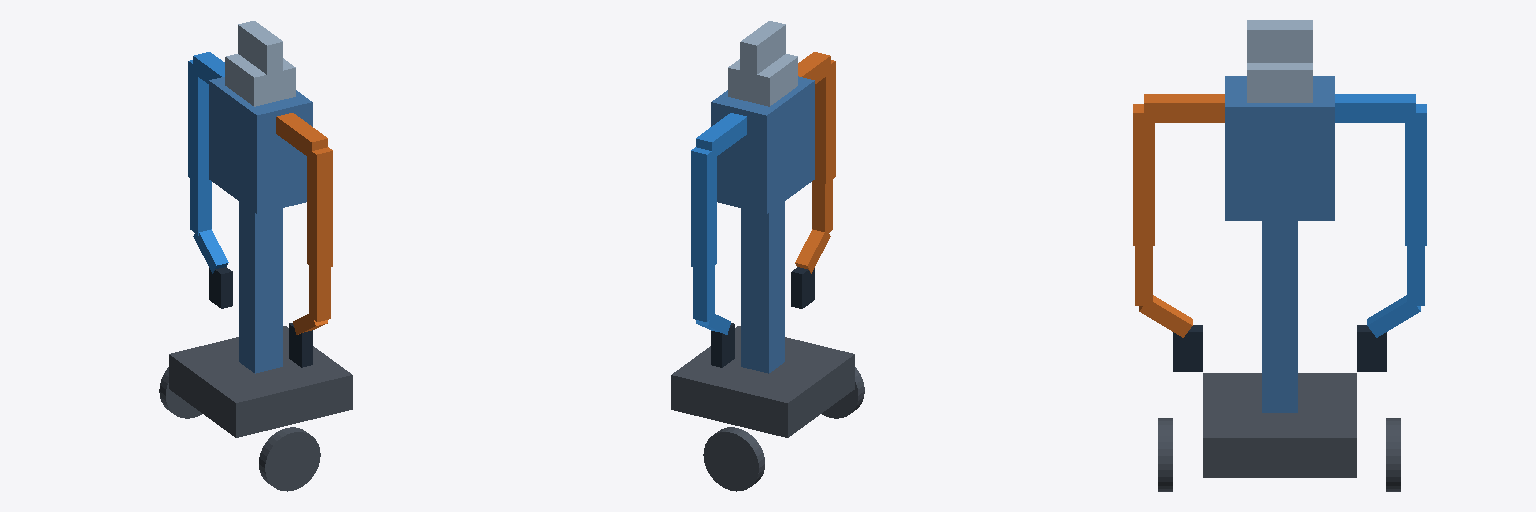
URDF robot description (dummy_bot):
<?xml version="1.0" encoding="UTF-8"?>
<robot name="dummy_bot">
  <!--
  SOFTWARE-ONLY PLACEHOLDER MODEL - NOT FOR REAL MOTOR CONTROL.

  Topology and case-sensitive names follow the user's robot structure drawing.
  The unlabelled left-arm joint between Left_Arm_Link3 and Left_Arm_Link4
  is inferred to be Left_Arm_Joint3, matching the right arm.

  Root: base_link. 20 links, 19 revolute joints: 15 body joints, 2 wrists and 2 wheels.
  Each arm: shoulder + Arm_Joint1..4 = 5 revolute joints, then a revolute SDK wrist.
  No finger joints, world link, transmissions, controllers, or
  ros2_control/hardware plugins are added.

  Except wheel joint origins/axes copied from Kinematics_only, dimensions,
  joint origins, axes, limits, masses, centers of mass and inertias are
  invented placeholders. Replace them with calibrated
  SolidWorks/measurement data before using this model on hardware.
  Computed gravity, inertia, trajectories and collision results are NOT
  predictions of the real robot.

  SI units: m, kg, s, rad, N.m, kg.m^2.
  Nominal axes: x forward, y left, z up. At q=0 body/hand link frames have aligned
  axes (wheel frames follow the kinematics export); the simple box shapes approximate the drawing's front-view layout.
  Inertial origins locate each box's COM; inertias are about that COM.

  base_link is a fixed reference for FK/TF tests and deliberately has no
  inertial element. All 19 non-root links have positive mass/inertia.
  For floating-base dynamics or physics simulation, separately configure
  a proper base inertia, support/contact model, and controllers.

  A joint origin is expressed in its PARENT link frame and specifies the
  child frame at q=0. Joint axes are expressed in that zero-pose joint frame.
  Visual, collision, and inertial origins are expressed in their OWN link.
-->
  <material name="body_blue">
    <color rgba="0.32 0.52 0.72 1" />
  </material>
  <material name="left_arm_blue">
    <color rgba="0.24 0.57 0.86 1" />
  </material>
  <material name="right_arm_orange">
    <color rgba="0.86 0.48 0.20 1" />
  </material>
  <material name="base_gray">
    <color rgba="0.34 0.37 0.41 1" />
  </material>
  <material name="head_light">
    <color rgba="0.65 0.73 0.81 1" />
  </material>
  <material name="hand_dark">
    <color rgba="0.18 0.23 0.29 1" />
  </material>
  <!-- Fixed root reference. Root geometry only; no root inertia. -->
  <link name="base_link">
    <visual>
      <origin xyz="0 0 0.06" rpy="0 0 0" />
      <geometry>
        <box size="0.42 0.42 0.12" />
      </geometry>
      <material name="base_gray" />
    </visual>
    <collision>
      <origin xyz="0 0 0.06" rpy="0 0 0" />
      <geometry>
        <box size="0.42 0.42 0.12" />
      </geometry>
    </collision>
  </link>
  <!-- Left wheel: joint frame from Kinematics_only; cylinder, inertia and limits are placeholders.
       Description only: no motor mapping or control interfaces. -->
  <joint name="Left_Wheel_Joint" type="revolute">
    <parent link="base_link" />
    <child link="Left_Wheel_Link" />
    <origin xyz="-0.075 0.30942 -0.063709" rpy="1.5708 0 -3.1416" />
    <axis xyz="0 0 1" />
    <limit lower="-3.14159265359" upper="3.14159265359" effort="1" velocity="1" />
  </joint>
  <link name="Left_Wheel_Link">
    <inertial>
      <origin xyz="0 0 0" rpy="0 0 0" />
      <mass value="0.5" />
      <inertia ixx="0.00131666666667" ixy="0" ixz="0" iyy="0.00131666666667" iyz="0" izz="0.0025" />
    </inertial>
    <visual>
      <origin xyz="0 0 0" rpy="0 0 0" />
      <geometry><cylinder radius="0.1" length="0.04" /></geometry>
      <material name="base_gray" />
    </visual>
    <collision>
      <origin xyz="0 0 0" rpy="0 0 0" />
      <geometry><cylinder radius="0.1" length="0.04" /></geometry>
    </collision>
  </link>
  <!-- Right wheel: joint frame from Kinematics_only; cylinder, inertia and limits are placeholders.
       Description only: no motor mapping or control interfaces. -->
  <joint name="Right_Wheel_Joint" type="revolute">
    <parent link="base_link" />
    <child link="Right_Wheel_Link" />
    <origin xyz="-0.075 -0.31058 -0.063709" rpy="1.5708 0 -3.1416" />
    <axis xyz="0 0 1" />
    <limit lower="-3.14159265359" upper="3.14159265359" effort="1" velocity="1" />
  </joint>
  <link name="Right_Wheel_Link">
    <inertial>
      <origin xyz="0 0 0" rpy="0 0 0" />
      <mass value="0.5" />
      <inertia ixx="0.00131666666667" ixy="0" ixz="0" iyy="0.00131666666667" iyz="0" izz="0.0025" />
    </inertial>
    <visual>
      <origin xyz="0 0 0" rpy="0 0 0" />
      <geometry><cylinder radius="0.1" length="0.04" /></geometry>
      <material name="base_gray" />
    </visual>
    <collision>
      <origin xyz="0 0 0" rpy="0 0 0" />
      <geometry><cylinder radius="0.1" length="0.04" /></geometry>
    </collision>
  </link>
  <!-- base_link -> Feet_Joint -> Lower_Leg_Link -->
  <joint name="Feet_Joint" type="revolute">
    <parent link="base_link" />
    <child link="Lower_Leg_Link" />
    <origin xyz="0 0 0.12" rpy="0 0 0" />
    <axis xyz="0 1 0" />
    <limit lower="-1.57079632679" upper="1.57079632679" effort="20" velocity="1" />
  </joint>
  <link name="Lower_Leg_Link">
    <inertial>
      <origin xyz="0 0 0.15" rpy="0 0 0" />
      <mass value="2" />
      <inertia ixx="0.0166666666667" ixy="0" ixz="0" iyy="0.0166666666667" iyz="0" izz="0.00333333333333" />
    </inertial>
    <visual>
      <origin xyz="0 0 0.15" rpy="0 0 0" />
      <geometry>
        <box size="0.1 0.1 0.3" />
      </geometry>
      <material name="body_blue" />
    </visual>
    <collision>
      <origin xyz="0 0 0.15" rpy="0 0 0" />
      <geometry>
        <box size="0.1 0.1 0.3" />
      </geometry>
    </collision>
  </link>
  <!-- Lower_Leg_Link -> Knee_Joint -> Upper_Leg_Link -->
  <joint name="Knee_Joint" type="revolute">
    <parent link="Lower_Leg_Link" />
    <child link="Upper_Leg_Link" />
    <origin xyz="0 0 0.3" rpy="0 0 0" />
    <axis xyz="0 1 0" />
    <limit lower="-1.57079632679" upper="1.57079632679" effort="20" velocity="1" />
  </joint>
  <link name="Upper_Leg_Link">
    <inertial>
      <origin xyz="0 0 0.15" rpy="0 0 0" />
      <mass value="2" />
      <inertia ixx="0.0166666666667" ixy="0" ixz="0" iyy="0.0166666666667" iyz="0" izz="0.00333333333333" />
    </inertial>
    <visual>
      <origin xyz="0 0 0.15" rpy="0 0 0" />
      <geometry>
        <box size="0.1 0.1 0.3" />
      </geometry>
      <material name="body_blue" />
    </visual>
    <collision>
      <origin xyz="0 0 0.15" rpy="0 0 0" />
      <geometry>
        <box size="0.1 0.1 0.3" />
      </geometry>
    </collision>
  </link>
  <!-- Upper_Leg_Link -> Hip_Joint -> Body_Link -->
  <joint name="Hip_Joint" type="revolute">
    <parent link="Upper_Leg_Link" />
    <child link="Body_Link" />
    <origin xyz="0 0 0.3" rpy="0 0 0" />
    <axis xyz="0 1 0" />
    <limit lower="-1.57079632679" upper="1.57079632679" effort="20" velocity="1" />
  </joint>
  <link name="Body_Link">
    <inertial>
      <origin xyz="0 0 0.17" rpy="0 0 0" />
      <mass value="5" />
      <inertia ixx="0.0856666666667" ixy="0" ixz="0" iyy="0.0648333333333" iyz="0" izz="0.0541666666667" />
    </inertial>
    <visual>
      <origin xyz="0 0 0.17" rpy="0 0 0" />
      <geometry>
        <box size="0.2 0.3 0.34" />
      </geometry>
      <material name="body_blue" />
    </visual>
    <collision>
      <origin xyz="0 0 0.17" rpy="0 0 0" />
      <geometry>
        <box size="0.2 0.3 0.34" />
      </geometry>
    </collision>
  </link>
  <!-- Body_Link -> Neck_Joint -> Head_Link -->
  <joint name="Neck_Joint" type="revolute">
    <parent link="Body_Link" />
    <child link="Head_Link" />
    <origin xyz="0 0 0.34" rpy="0 0 0" />
    <axis xyz="0 0 1" />
    <limit lower="-1.57079632679" upper="1.57079632679" effort="20" velocity="1" />
  </joint>
  <link name="Head_Link">
    <inertial>
      <origin xyz="0 0 0.05" rpy="0 0 0" />
      <mass value="0.6" />
      <inertia ixx="0.00212" ixy="0" ixz="0" iyy="0.001625" iyz="0" izz="0.002745" />
    </inertial>
    <visual>
      <origin xyz="0 0 0.05" rpy="0 0 0" />
      <geometry>
        <box size="0.15 0.18 0.1" />
      </geometry>
      <material name="head_light" />
    </visual>
    <collision>
      <origin xyz="0 0 0.05" rpy="0 0 0" />
      <geometry>
        <box size="0.15 0.18 0.1" />
      </geometry>
    </collision>
  </link>
  <!-- Head_Link -> Face_Joint -> Face_Link -->
  <joint name="Face_Joint" type="revolute">
    <parent link="Head_Link" />
    <child link="Face_Link" />
    <origin xyz="0 0 0.1" rpy="0 0 0" />
    <axis xyz="0 1 0" />
    <limit lower="-1.57079632679" upper="1.57079632679" effort="20" velocity="1" />
  </joint>
  <link name="Face_Link">
    <inertial>
      <origin xyz="0 0 0.05" rpy="0 0 0" />
      <mass value="0.2" />
      <inertia ixx="0.000706666666667" ixy="0" ixz="0" iyy="0.000226666666667" iyz="0" izz="0.0006" />
    </inertial>
    <visual>
      <origin xyz="0 0 0.05" rpy="0 0 0" />
      <geometry>
        <box size="0.06 0.18 0.1" />
      </geometry>
      <material name="head_light" />
    </visual>
    <collision>
      <origin xyz="0 0 0.05" rpy="0 0 0" />
      <geometry>
        <box size="0.06 0.18 0.1" />
      </geometry>
    </collision>
  </link>
  <!-- LEFT ARM: five revolute joints, followed by a fixed hand attachment. -->
  <!-- Body_Link -> Left_Shoulder_Joint -> Left_Arm_Link1 -->
  <joint name="Left_Shoulder_Joint" type="revolute">
    <parent link="Body_Link" />
    <child link="Left_Arm_Link1" />
    <origin xyz="0 0.15 0.29" rpy="0 0 0" />
    <axis xyz="1 0 0" />
    <limit lower="-1.57079632679" upper="1.57079632679" effort="20" velocity="1" />
  </joint>
  <link name="Left_Arm_Link1">
    <inertial>
      <origin xyz="0 0.11 0" rpy="0 0 0" />
      <mass value="0.5" />
      <inertia ixx="0.00216666666667" ixy="0" ixz="0" iyy="0.0003" iyz="0" izz="0.00216666666667" />
    </inertial>
    <visual>
      <origin xyz="0 0.11 0" rpy="0 0 0" />
      <geometry>
        <box size="0.06 0.22 0.06" />
      </geometry>
      <material name="left_arm_blue" />
    </visual>
    <collision>
      <origin xyz="0 0.11 0" rpy="0 0 0" />
      <geometry>
        <box size="0.06 0.22 0.06" />
      </geometry>
    </collision>
  </link>
  <!-- Left_Arm_Link1 -> Left_Arm_Joint1 -> Left_Arm_Link2 -->
  <joint name="Left_Arm_Joint1" type="revolute">
    <parent link="Left_Arm_Link1" />
    <child link="Left_Arm_Link2" />
    <origin xyz="0 0.22 0" rpy="0 0 0" />
    <axis xyz="0 1 0" />
    <limit lower="-1.57079632679" upper="1.57079632679" effort="20" velocity="1" />
  </joint>
  <link name="Left_Arm_Link2">
    <inertial>
      <origin xyz="0 0 -0.1" rpy="0 0 0" />
      <mass value="0.8" />
      <inertia ixx="0.00290666666667" ixy="0" ixz="0" iyy="0.00290666666667" iyz="0" izz="0.00048" />
    </inertial>
    <visual>
      <origin xyz="0 0 -0.1" rpy="0 0 0" />
      <geometry>
        <box size="0.06 0.06 0.2" />
      </geometry>
      <material name="left_arm_blue" />
    </visual>
    <collision>
      <origin xyz="0 0 -0.1" rpy="0 0 0" />
      <geometry>
        <box size="0.06 0.06 0.2" />
      </geometry>
    </collision>
  </link>
  <!-- Left_Arm_Link2 -> Left_Arm_Joint2 -> Left_Arm_Link3 -->
  <joint name="Left_Arm_Joint2" type="revolute">
    <parent link="Left_Arm_Link2" />
    <child link="Left_Arm_Link3" />
    <origin xyz="0 0 -0.2" rpy="0 0 0" />
    <axis xyz="0 0 1" />
    <limit lower="-1.57079632679" upper="1.57079632679" effort="20" velocity="1" />
  </joint>
  <link name="Left_Arm_Link3">
    <inertial>
      <origin xyz="0 0 -0.1" rpy="0 0 0" />
      <mass value="0.7" />
      <inertia ixx="0.00254333333333" ixy="0" ixz="0" iyy="0.00254333333333" iyz="0" izz="0.00042" />
    </inertial>
    <visual>
      <origin xyz="0 0 -0.1" rpy="0 0 0" />
      <geometry>
        <box size="0.06 0.06 0.2" />
      </geometry>
      <material name="left_arm_blue" />
    </visual>
    <collision>
      <origin xyz="0 0 -0.1" rpy="0 0 0" />
      <geometry>
        <box size="0.06 0.06 0.2" />
      </geometry>
    </collision>
  </link>
  <!-- Left_Arm_Joint3: the unlabeled circle in the provided drawing. -->
  <!-- Left_Arm_Link3 -> Left_Arm_Joint3 -> Left_Arm_Link4 -->
  <joint name="Left_Arm_Joint3" type="revolute">
    <parent link="Left_Arm_Link3" />
    <child link="Left_Arm_Link4" />
    <origin xyz="0 0 -0.2" rpy="0 0 0" />
    <axis xyz="0 1 0" />
    <limit lower="-1.57079632679" upper="1.57079632679" effort="20" velocity="1" />
  </joint>
  <link name="Left_Arm_Link4">
    <inertial>
      <origin xyz="0 0 -0.09" rpy="0 0 0" />
      <mass value="0.5" />
      <inertia ixx="0.00145416666667" ixy="0" ixz="0" iyy="0.00145416666667" iyz="0" izz="0.000208333333333" />
    </inertial>
    <visual>
      <origin xyz="0 0 -0.09" rpy="0 0 0" />
      <geometry>
        <box size="0.05 0.05 0.18" />
      </geometry>
      <material name="left_arm_blue" />
    </visual>
    <collision>
      <origin xyz="0 0 -0.09" rpy="0 0 0" />
      <geometry>
        <box size="0.05 0.05 0.18" />
      </geometry>
    </collision>
  </link>
  <!-- Left_Arm_Link4 -> Left_Arm_Joint4 -> Left_Arm_Link5 -->
  <joint name="Left_Arm_Joint4" type="revolute">
    <parent link="Left_Arm_Link4" />
    <child link="Left_Arm_Link5" />
    <origin xyz="0 0 -0.18" rpy="0 0 0" />
    <axis xyz="0 0 1" />
    <limit lower="-1.57079632679" upper="1.57079632679" effort="20" velocity="1" />
  </joint>
  <!-- Short inward/downward end segment. Rotated box COM frame; principal inertia about its COM. -->
  <link name="Left_Arm_Link5">
    <inertial>
      <origin xyz="0 -0.06 -0.04" rpy="2.15879893034 0 0" />
      <mass value="0.3" />
      <inertia ixx="0.000570625" ixy="0" ixz="0" iyy="0.000570625" iyz="0" izz="0.00010125" />
    </inertial>
    <visual>
      <origin xyz="0 -0.06 -0.04" rpy="2.15879893034 0 0" />
      <geometry>
        <box size="0.045 0.045 0.144222051019" />
      </geometry>
      <material name="left_arm_blue" />
    </visual>
    <collision>
      <origin xyz="0 -0.06 -0.04" rpy="2.15879893034 0 0" />
      <geometry>
        <box size="0.045 0.045 0.144222051019" />
      </geometry>
    </collision>
  </link>
  <!-- Left_Arm_Link5 -> Left_Wrist_Joint -> Left_Hand_Link -->
  <joint name="Left_Wrist_Joint" type="revolute">
    <!-- Synthetic wrist axis/limits for software tests; must be calibrated. -->
    <axis xyz="0 1 0" />
    <limit lower="-1.0" upper="1.0" velocity="1.0" effort="1.0" />
    <parent link="Left_Arm_Link5" />
    <child link="Left_Hand_Link" />
    <origin xyz="0 -0.12 -0.08" rpy="0 0 0" />
  </joint>
  <!-- Rigid hand placeholder; no finger articulation in the supplied topology. -->
  <link name="Left_Hand_Link">
    <inertial>
      <origin xyz="0 0 -0.06" rpy="0 0 0" />
      <mass value="0.25" />
      <inertia ixx="0.000433333333333" ixy="0" ixz="0" iyy="0.000333333333333" iyz="0" izz="0.000166666666667" />
    </inertial>
    <visual>
      <origin xyz="0 0 -0.06" rpy="0 0 0" />
      <geometry>
        <box size="0.04 0.08 0.12" />
      </geometry>
      <material name="hand_dark" />
    </visual>
    <collision>
      <origin xyz="0 0 -0.06" rpy="0 0 0" />
      <geometry>
        <box size="0.04 0.08 0.12" />
      </geometry>
    </collision>
  </link>
  <!-- RIGHT ARM: five revolute joints, followed by a fixed hand attachment. -->
  <!-- Body_Link -> Right_Shoulder_Joint -> Right_Arm_Link1 -->
  <joint name="Right_Shoulder_Joint" type="revolute">
    <parent link="Body_Link" />
    <child link="Right_Arm_Link1" />
    <origin xyz="0 -0.15 0.29" rpy="0 0 0" />
    <axis xyz="1 0 0" />
    <limit lower="-1.57079632679" upper="1.57079632679" effort="20" velocity="1" />
  </joint>
  <link name="Right_Arm_Link1">
    <inertial>
      <origin xyz="0 -0.11 0" rpy="0 0 0" />
      <mass value="0.5" />
      <inertia ixx="0.00216666666667" ixy="0" ixz="0" iyy="0.0003" iyz="0" izz="0.00216666666667" />
    </inertial>
    <visual>
      <origin xyz="0 -0.11 0" rpy="0 0 0" />
      <geometry>
        <box size="0.06 0.22 0.06" />
      </geometry>
      <material name="right_arm_orange" />
    </visual>
    <collision>
      <origin xyz="0 -0.11 0" rpy="0 0 0" />
      <geometry>
        <box size="0.06 0.22 0.06" />
      </geometry>
    </collision>
  </link>
  <!-- Right_Arm_Link1 -> Right_Arm_Joint1 -> Right_Arm_Link2 -->
  <joint name="Right_Arm_Joint1" type="revolute">
    <parent link="Right_Arm_Link1" />
    <child link="Right_Arm_Link2" />
    <origin xyz="0 -0.22 0" rpy="0 0 0" />
    <axis xyz="0 1 0" />
    <limit lower="-1.57079632679" upper="1.57079632679" effort="20" velocity="1" />
  </joint>
  <link name="Right_Arm_Link2">
    <inertial>
      <origin xyz="0 0 -0.1" rpy="0 0 0" />
      <mass value="0.8" />
      <inertia ixx="0.00290666666667" ixy="0" ixz="0" iyy="0.00290666666667" iyz="0" izz="0.00048" />
    </inertial>
    <visual>
      <origin xyz="0 0 -0.1" rpy="0 0 0" />
      <geometry>
        <box size="0.06 0.06 0.2" />
      </geometry>
      <material name="right_arm_orange" />
    </visual>
    <collision>
      <origin xyz="0 0 -0.1" rpy="0 0 0" />
      <geometry>
        <box size="0.06 0.06 0.2" />
      </geometry>
    </collision>
  </link>
  <!-- Right_Arm_Link2 -> Right_Arm_Joint2 -> Right_Arm_Link3 -->
  <joint name="Right_Arm_Joint2" type="revolute">
    <parent link="Right_Arm_Link2" />
    <child link="Right_Arm_Link3" />
    <origin xyz="0 0 -0.2" rpy="0 0 0" />
    <axis xyz="0 0 1" />
    <limit lower="-1.57079632679" upper="1.57079632679" effort="20" velocity="1" />
  </joint>
  <link name="Right_Arm_Link3">
    <inertial>
      <origin xyz="0 0 -0.1" rpy="0 0 0" />
      <mass value="0.7" />
      <inertia ixx="0.00254333333333" ixy="0" ixz="0" iyy="0.00254333333333" iyz="0" izz="0.00042" />
    </inertial>
    <visual>
      <origin xyz="0 0 -0.1" rpy="0 0 0" />
      <geometry>
        <box size="0.06 0.06 0.2" />
      </geometry>
      <material name="right_arm_orange" />
    </visual>
    <collision>
      <origin xyz="0 0 -0.1" rpy="0 0 0" />
      <geometry>
        <box size="0.06 0.06 0.2" />
      </geometry>
    </collision>
  </link>
  <!-- Right_Arm_Link3 -> Right_Arm_Joint3 -> Right_Arm_Link4 -->
  <joint name="Right_Arm_Joint3" type="revolute">
    <parent link="Right_Arm_Link3" />
    <child link="Right_Arm_Link4" />
    <origin xyz="0 0 -0.2" rpy="0 0 0" />
    <axis xyz="0 1 0" />
    <limit lower="-1.57079632679" upper="1.57079632679" effort="20" velocity="1" />
  </joint>
  <link name="Right_Arm_Link4">
    <inertial>
      <origin xyz="0 0 -0.09" rpy="0 0 0" />
      <mass value="0.5" />
      <inertia ixx="0.00145416666667" ixy="0" ixz="0" iyy="0.00145416666667" iyz="0" izz="0.000208333333333" />
    </inertial>
    <visual>
      <origin xyz="0 0 -0.09" rpy="0 0 0" />
      <geometry>
        <box size="0.05 0.05 0.18" />
      </geometry>
      <material name="right_arm_orange" />
    </visual>
    <collision>
      <origin xyz="0 0 -0.09" rpy="0 0 0" />
      <geometry>
        <box size="0.05 0.05 0.18" />
      </geometry>
    </collision>
  </link>
  <!-- Right_Arm_Link4 -> Right_Arm_Joint4 -> Right_Arm_Link5 -->
  <joint name="Right_Arm_Joint4" type="revolute">
    <parent link="Right_Arm_Link4" />
    <child link="Right_Arm_Link5" />
    <origin xyz="0 0 -0.18" rpy="0 0 0" />
    <axis xyz="0 0 1" />
    <limit lower="-1.57079632679" upper="1.57079632679" effort="20" velocity="1" />
  </joint>
  <!-- Short inward/downward end segment. Rotated box COM frame; principal inertia about its COM. -->
  <link name="Right_Arm_Link5">
    <inertial>
      <origin xyz="0 0.06 -0.04" rpy="-2.15879893034 0 0" />
      <mass value="0.3" />
      <inertia ixx="0.000570625" ixy="0" ixz="0" iyy="0.000570625" iyz="0" izz="0.00010125" />
    </inertial>
    <visual>
      <origin xyz="0 0.06 -0.04" rpy="-2.15879893034 0 0" />
      <geometry>
        <box size="0.045 0.045 0.144222051019" />
      </geometry>
      <material name="right_arm_orange" />
    </visual>
    <collision>
      <origin xyz="0 0.06 -0.04" rpy="-2.15879893034 0 0" />
      <geometry>
        <box size="0.045 0.045 0.144222051019" />
      </geometry>
    </collision>
  </link>
  <!-- Right_Arm_Link5 -> Right_Wrist_Joint -> Right_Hand_Link -->
  <joint name="Right_Wrist_Joint" type="revolute">
    <!-- Synthetic wrist axis/limits for software tests; must be calibrated. -->
    <axis xyz="0 1 0" />
    <limit lower="-1.0" upper="1.0" velocity="1.0" effort="1.0" />
    <parent link="Right_Arm_Link5" />
    <child link="Right_Hand_Link" />
    <origin xyz="0 0.12 -0.08" rpy="0 0 0" />
  </joint>
  <!-- Rigid hand placeholder; no finger articulation in the supplied topology. -->
  <link name="Right_Hand_Link">
    <inertial>
      <origin xyz="0 0 -0.06" rpy="0 0 0" />
      <mass value="0.25" />
      <inertia ixx="0.000433333333333" ixy="0" ixz="0" iyy="0.000333333333333" iyz="0" izz="0.000166666666667" />
    </inertial>
    <visual>
      <origin xyz="0 0 -0.06" rpy="0 0 0" />
      <geometry>
        <box size="0.04 0.08 0.12" />
      </geometry>
      <material name="hand_dark" />
    </visual>
    <collision>
      <origin xyz="0 0 -0.06" rpy="0 0 0" />
      <geometry>
        <box size="0.04 0.08 0.12" />
      </geometry>
    </collision>
  </link>
</robot>

--- What the picture shows (computed from the rendered views, not written in the file) ---
Views: 3 orthographic renders of the robot side by side, from view 1: azimuth 30°, elevation 25°; view 2: azimuth 150°, elevation 25°; view 3: azimuth 270°, elevation 25°.
Model dummy_bot with 20 links and 19 joints (19 revolute), rooted at base_link, posed every joint at zero.
Links seen in each view (by area): view 1: base_link, Body_Link, Lower_Leg_Link, Upper_Leg_Link, Right_Wheel_Link, Head_Link, Face_Link, Right_Arm_Link2, Right_Arm_Link3, Right_Arm_Link1, Left_Arm_Link3, Right_Arm_Link4 (+7 smaller); view 2: base_link, Body_Link, Lower_Leg_Link, Upper_Leg_Link, Left_Wheel_Link, Head_Link, Face_Link, Left_Arm_Link2, Left_Arm_Link3, Left_Arm_Link1, Right_Arm_Link3, Left_Arm_Link4 (+7 smaller); view 3: base_link, Body_Link, Lower_Leg_Link, Upper_Leg_Link, Face_Link, Head_Link, Right_Arm_Link1, Left_Arm_Link1, Left_Arm_Link2, Right_Arm_Link2, Left_Arm_Link3, Right_Arm_Link3 (+8 smaller).
Link boxes in pixels (x1,y1,x2,y2): base_link: (169, 326, 352, 437); Body_Link: (209, 77, 312, 213); Lower_Leg_Link: (239, 275, 282, 373); Upper_Leg_Link: (239, 202, 282, 285); Right_Wheel_Link: (259, 427, 320, 491); Head_Link: (225, 54, 295, 106); Face_Link: (238, 21, 282, 74); Right_Arm_Link2: (307, 147, 332, 212); Right_Arm_Link3: (307, 206, 332, 270); Right_Arm_Link1: (276, 113, 327, 159); Left_Arm_Link3: (188, 119, 210, 183); Right_Arm_Link4: (309, 266, 330, 321); base_link: (671, 326, 854, 437); Body_Link: (711, 76, 814, 213); Lower_Leg_Link: (741, 275, 784, 373); Upper_Leg_Link: (741, 202, 784, 285); Left_Wheel_Link: (703, 427, 764, 491); Head_Link: (728, 54, 797, 106); Face_Link: (740, 21, 785, 74); Left_Arm_Link2: (691, 147, 716, 212); Left_Arm_Link3: (691, 206, 716, 270); Left_Arm_Link1: (696, 113, 746, 159); Right_Arm_Link3: (813, 119, 835, 183); Left_Arm_Link4: (693, 266, 714, 321); base_link: (1203, 373, 1356, 477); Body_Link: (1225, 76, 1334, 220); Lower_Leg_Link: (1262, 313, 1297, 412); Upper_Leg_Link: (1262, 221, 1297, 312); Face_Link: (1247, 20, 1312, 62); Head_Link: (1247, 63, 1312, 102); Right_Arm_Link1: (1144, 94, 1224, 122); Left_Arm_Link1: (1335, 94, 1415, 122); Left_Arm_Link2: (1405, 104, 1426, 179); Right_Arm_Link2: (1133, 104, 1154, 179); Left_Arm_Link3: (1405, 180, 1426, 245); Right_Arm_Link3: (1133, 180, 1154, 245).
Size in the robot's own frame: 0.42 by 0.8 by 1.42 metres.
Geometry: primitives only (box / cylinder / sphere), no mesh files.
